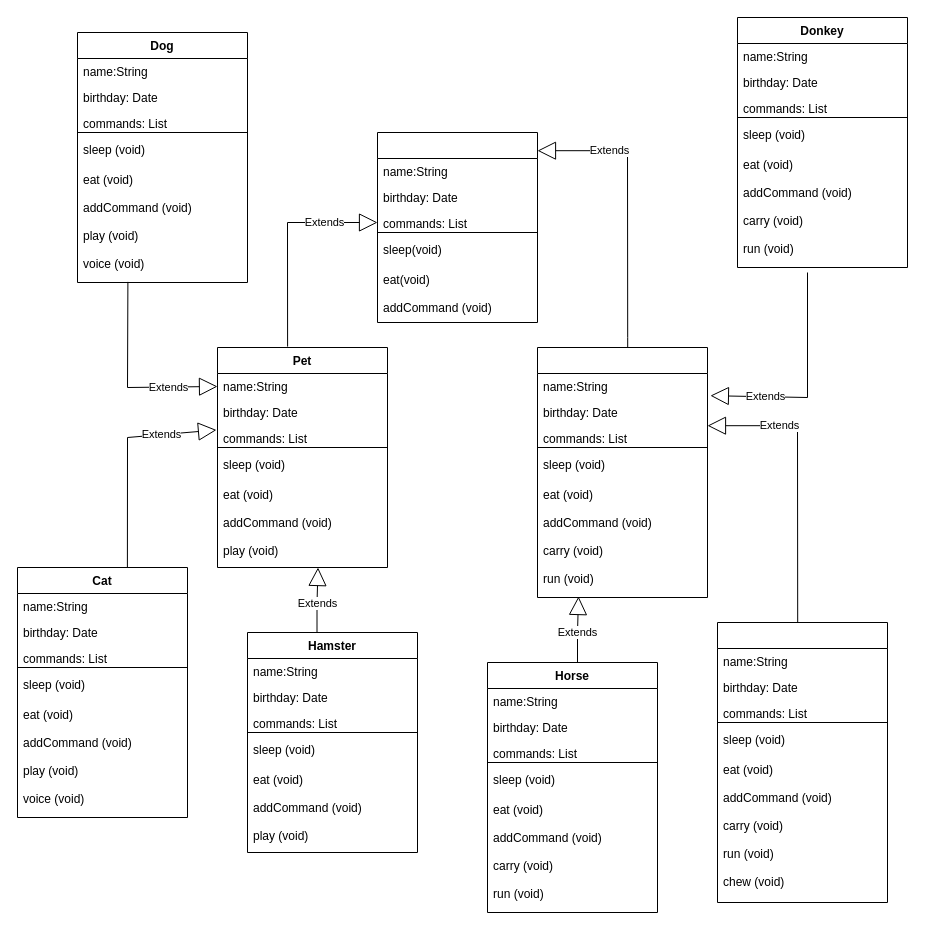
This 925x933 diagram has some shape labels left out. The box of each missing label's shape, as (x1, y1, x2, y2) in pixels:
Animal: (376, 132, 538, 322)
Camel: (716, 622, 888, 902)
PackAnimal: (536, 346, 708, 598)
